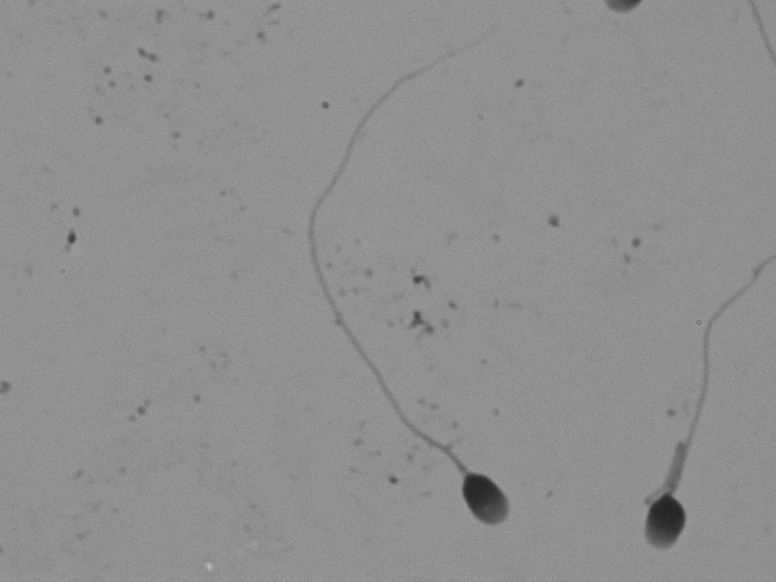Abnormal: (592, 232, 757, 568)
Normal: (251, 36, 552, 540)
